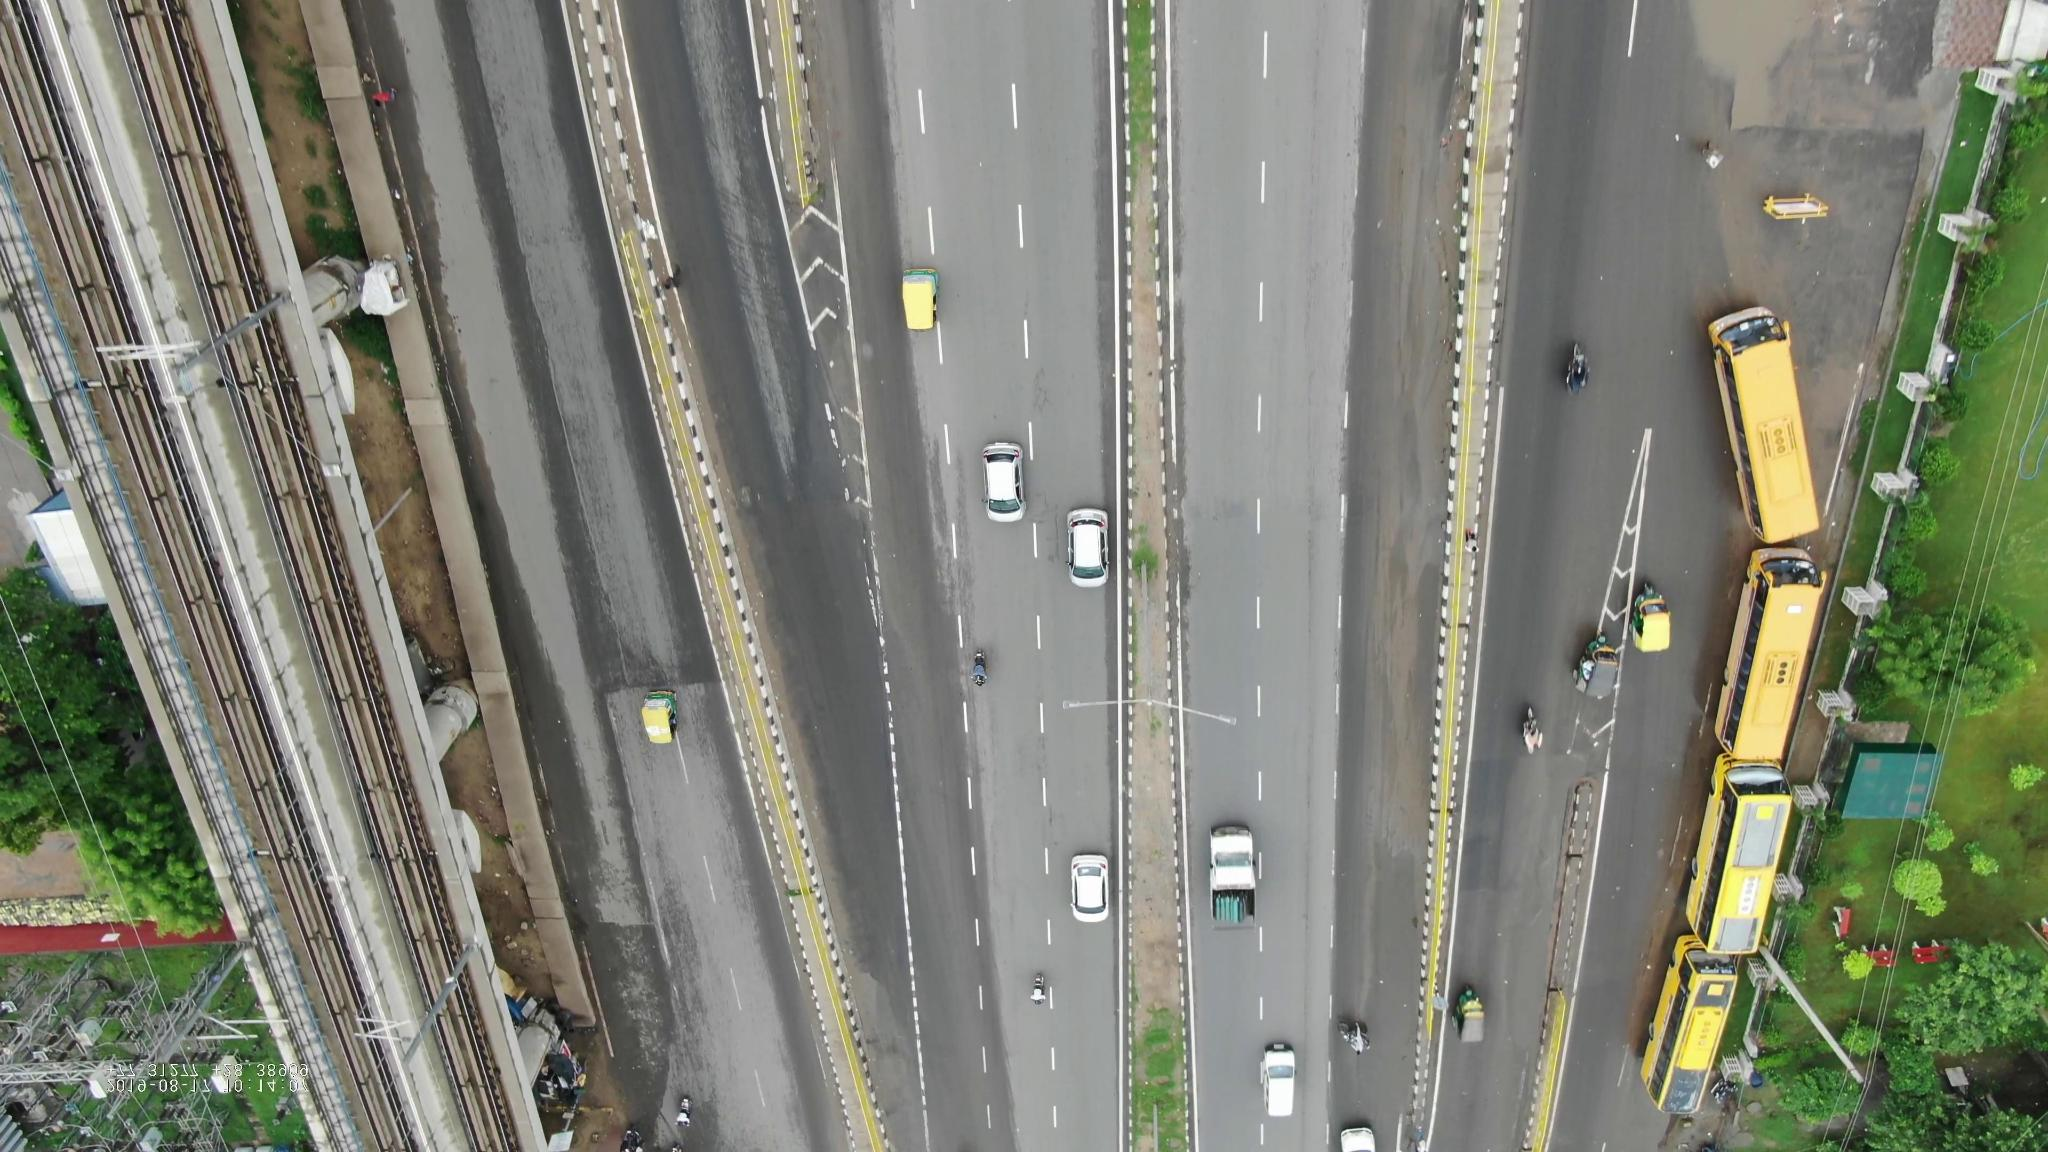Muddy_road: (1357, 91, 1459, 435), (1357, 499, 1438, 850)
Waterlogging: (1665, 4, 1875, 120), (1338, 862, 1423, 1104)
